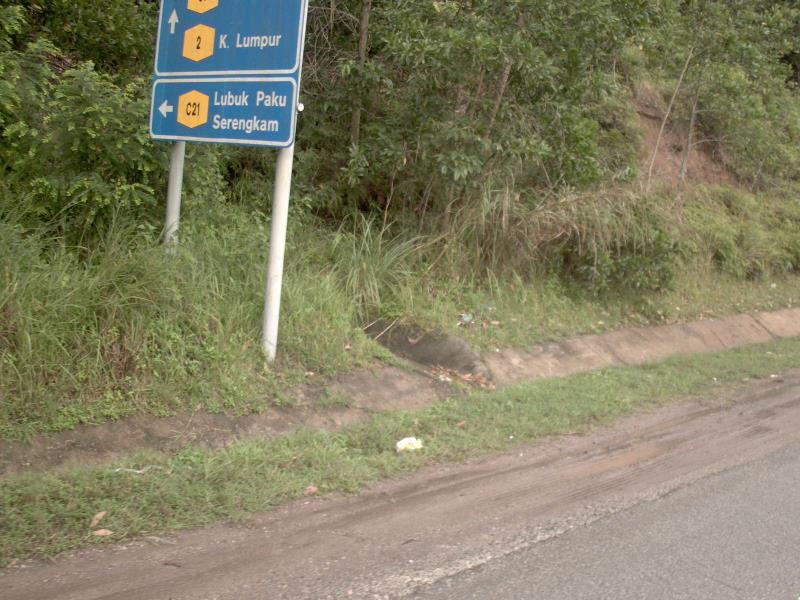traffic_sign: (141, 2, 312, 157)
